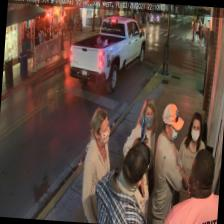person: (92, 138, 153, 224), (161, 142, 221, 224), (149, 101, 186, 224), (118, 96, 158, 209), (78, 106, 114, 224), (173, 111, 206, 216)
